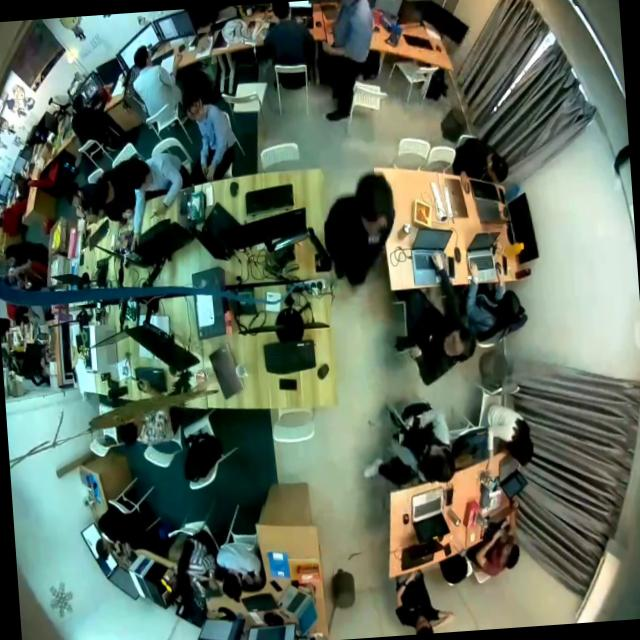employee_tag: (367, 231, 382, 248)
